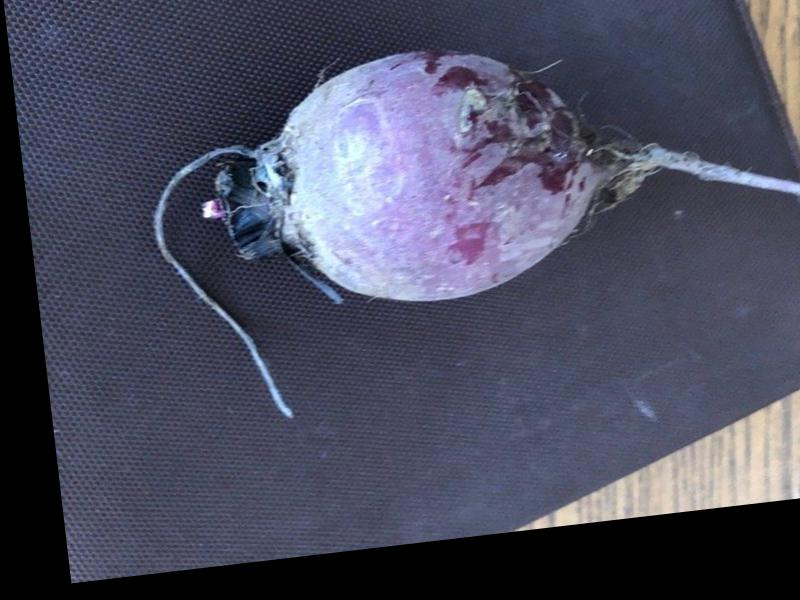Beet: (136, 3, 800, 432)
